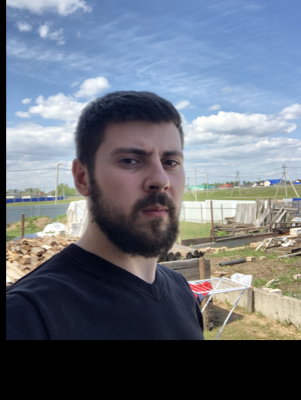without_mask: (97, 136, 185, 259)
